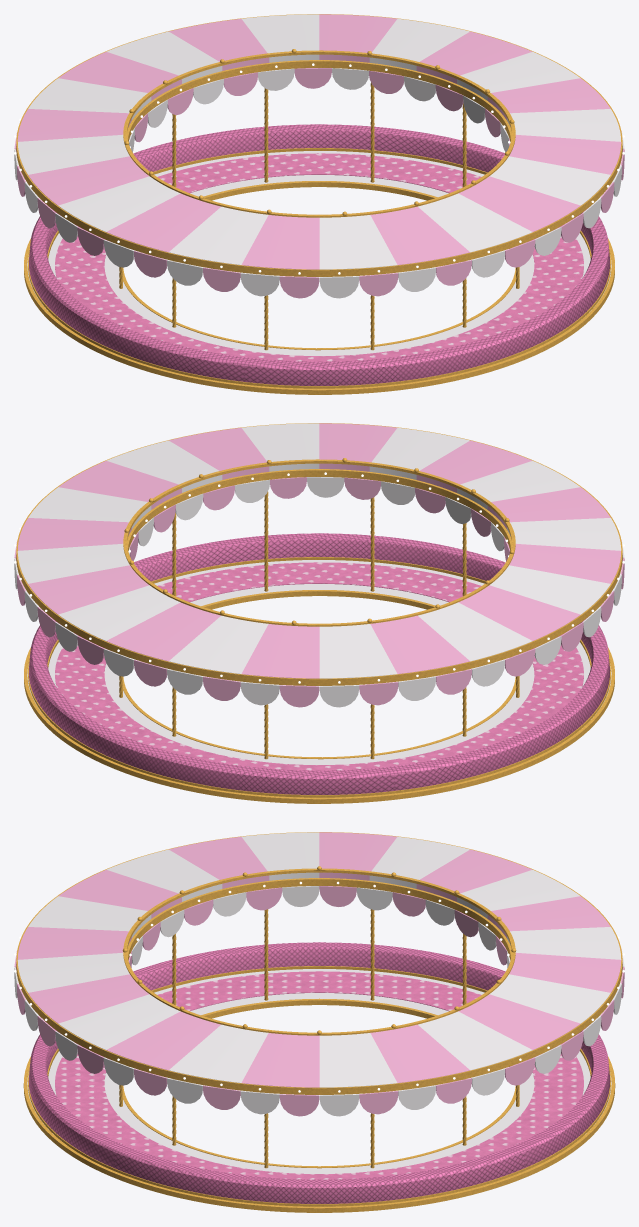
Rendered from citadel_carousel_top.glb.
The picture shows the model from 3 angles, top to bottom: view 1: azimuth 30°, elevation 25°; view 2: azimuth 150°, elevation 25°; view 3: azimuth 270°, elevation 25°; orthographic projection.
Visible parts, largest first — view 1: carousel_satin_white, carousel_satin_pink, carousel_gold, carousel_tufted, carousel_carpet, carousel_white_wood; view 2: carousel_satin_pink, carousel_satin_white, carousel_gold, carousel_tufted, carousel_carpet, carousel_white_wood; view 3: carousel_satin_pink, carousel_satin_white, carousel_gold, carousel_tufted, carousel_carpet, carousel_white_wood.
Boxes of the visible parts, <box> form: carousel_satin_white: <box>14,14,624,298</box>; carousel_satin_pink: <box>14,14,624,298</box>; carousel_gold: <box>16,14,622,394</box>; carousel_tufted: <box>28,124,610,385</box>; carousel_carpet: <box>55,153,583,361</box>; carousel_white_wood: <box>27,151,611,355</box>; carousel_satin_pink: <box>14,423,624,707</box>; carousel_satin_white: <box>14,423,624,707</box>; carousel_gold: <box>16,423,622,803</box>; carousel_tufted: <box>28,533,610,794</box>; carousel_carpet: <box>55,562,583,770</box>; carousel_white_wood: <box>27,560,611,764</box>; carousel_satin_pink: <box>14,832,624,1116</box>; carousel_satin_white: <box>14,832,624,1116</box>; carousel_gold: <box>16,832,622,1212</box>; carousel_tufted: <box>28,942,610,1203</box>; carousel_carpet: <box>55,971,583,1179</box>; carousel_white_wood: <box>27,969,611,1173</box>.
Size of the model in its own units: 22.17 by 5.6 by 22.17.
7 materials, 3 textured.
